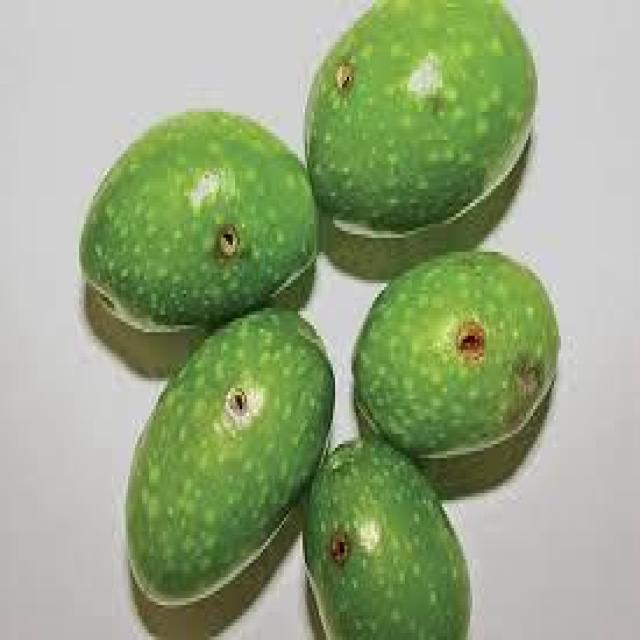Anthracnose: (128, 312, 333, 636), (305, 0, 535, 252), (82, 109, 310, 328), (354, 252, 556, 454), (302, 440, 466, 636)
